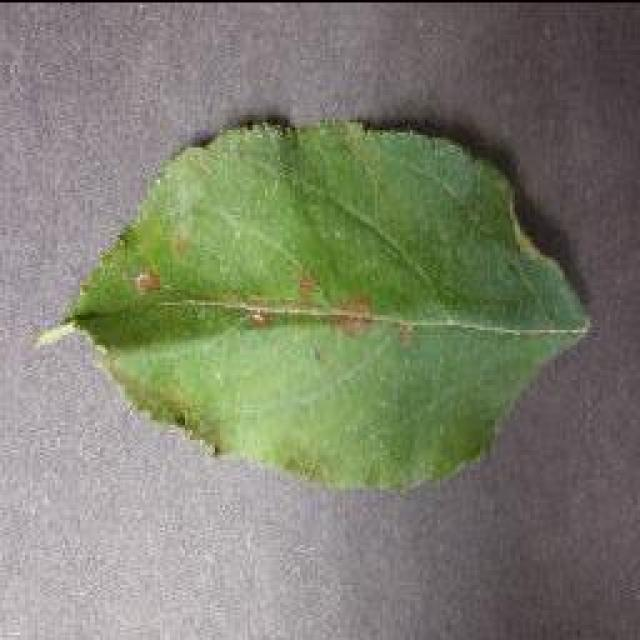apple healthy: (35, 113, 595, 495)
